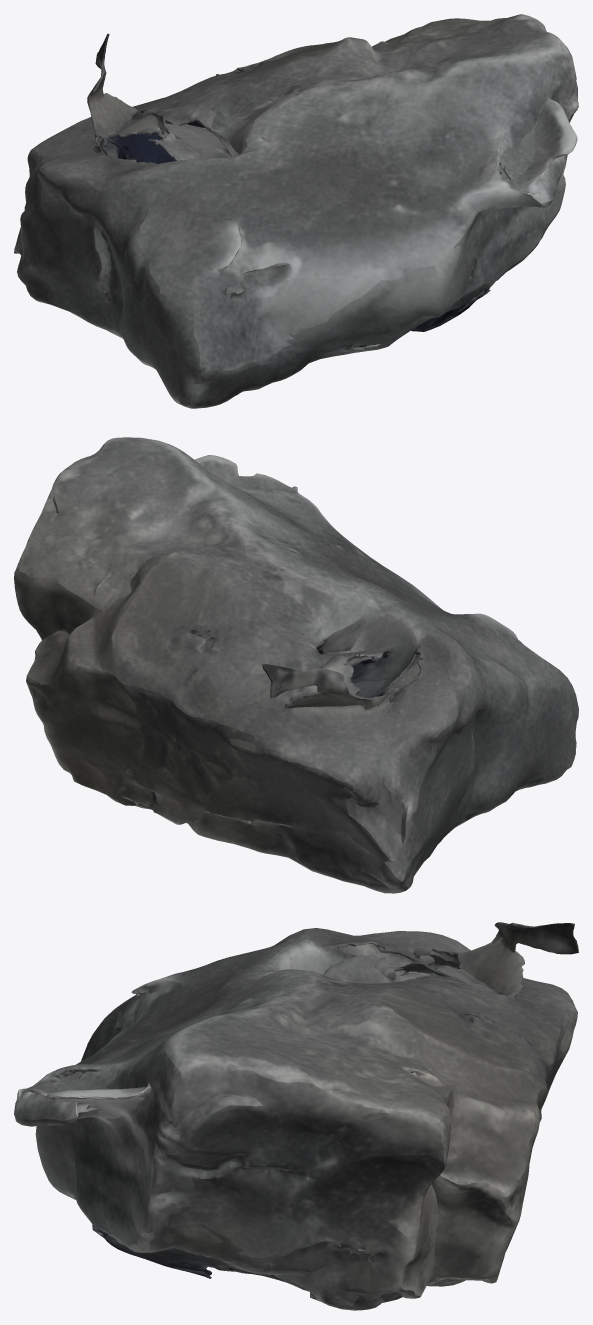
3 views of the same model, one above another, from view 1: azimuth 30°, elevation 25°; view 2: azimuth 150°, elevation 25°; view 3: azimuth 270°, elevation 25° (orthographic). The views are drawn at different scales.
Visible parts, largest first — view 1: world; view 2: world; view 3: world.
Part boxes in pixels (bbox=[...]): world: bbox=[14, 14, 578, 408]; world: bbox=[14, 437, 578, 893]; world: bbox=[14, 922, 578, 1310].
Size of the model in its own units: 4.5 by 2.52 by 4.1.
1 material, 1 textured.
